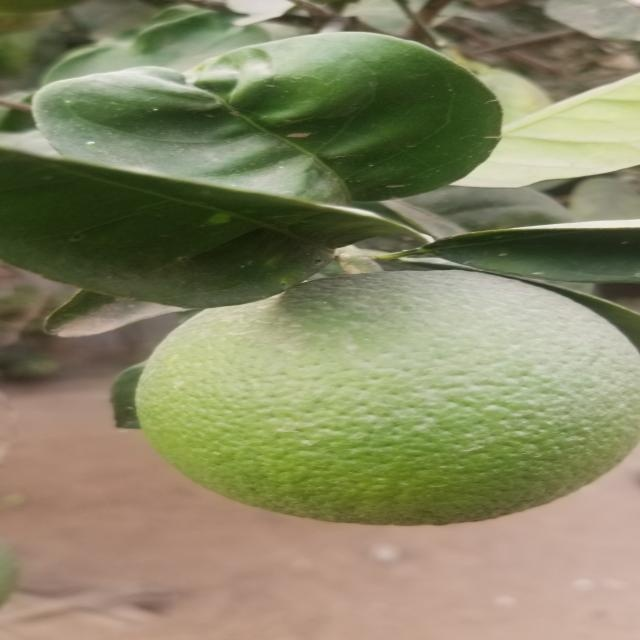agrume: (140, 269, 640, 526)
